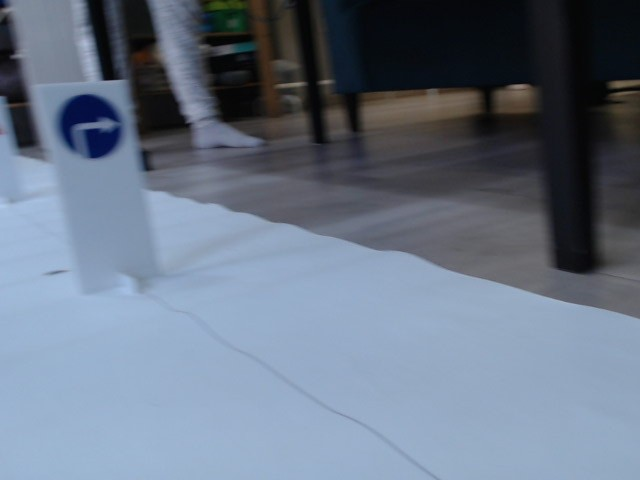Right: (54, 94, 123, 159)
